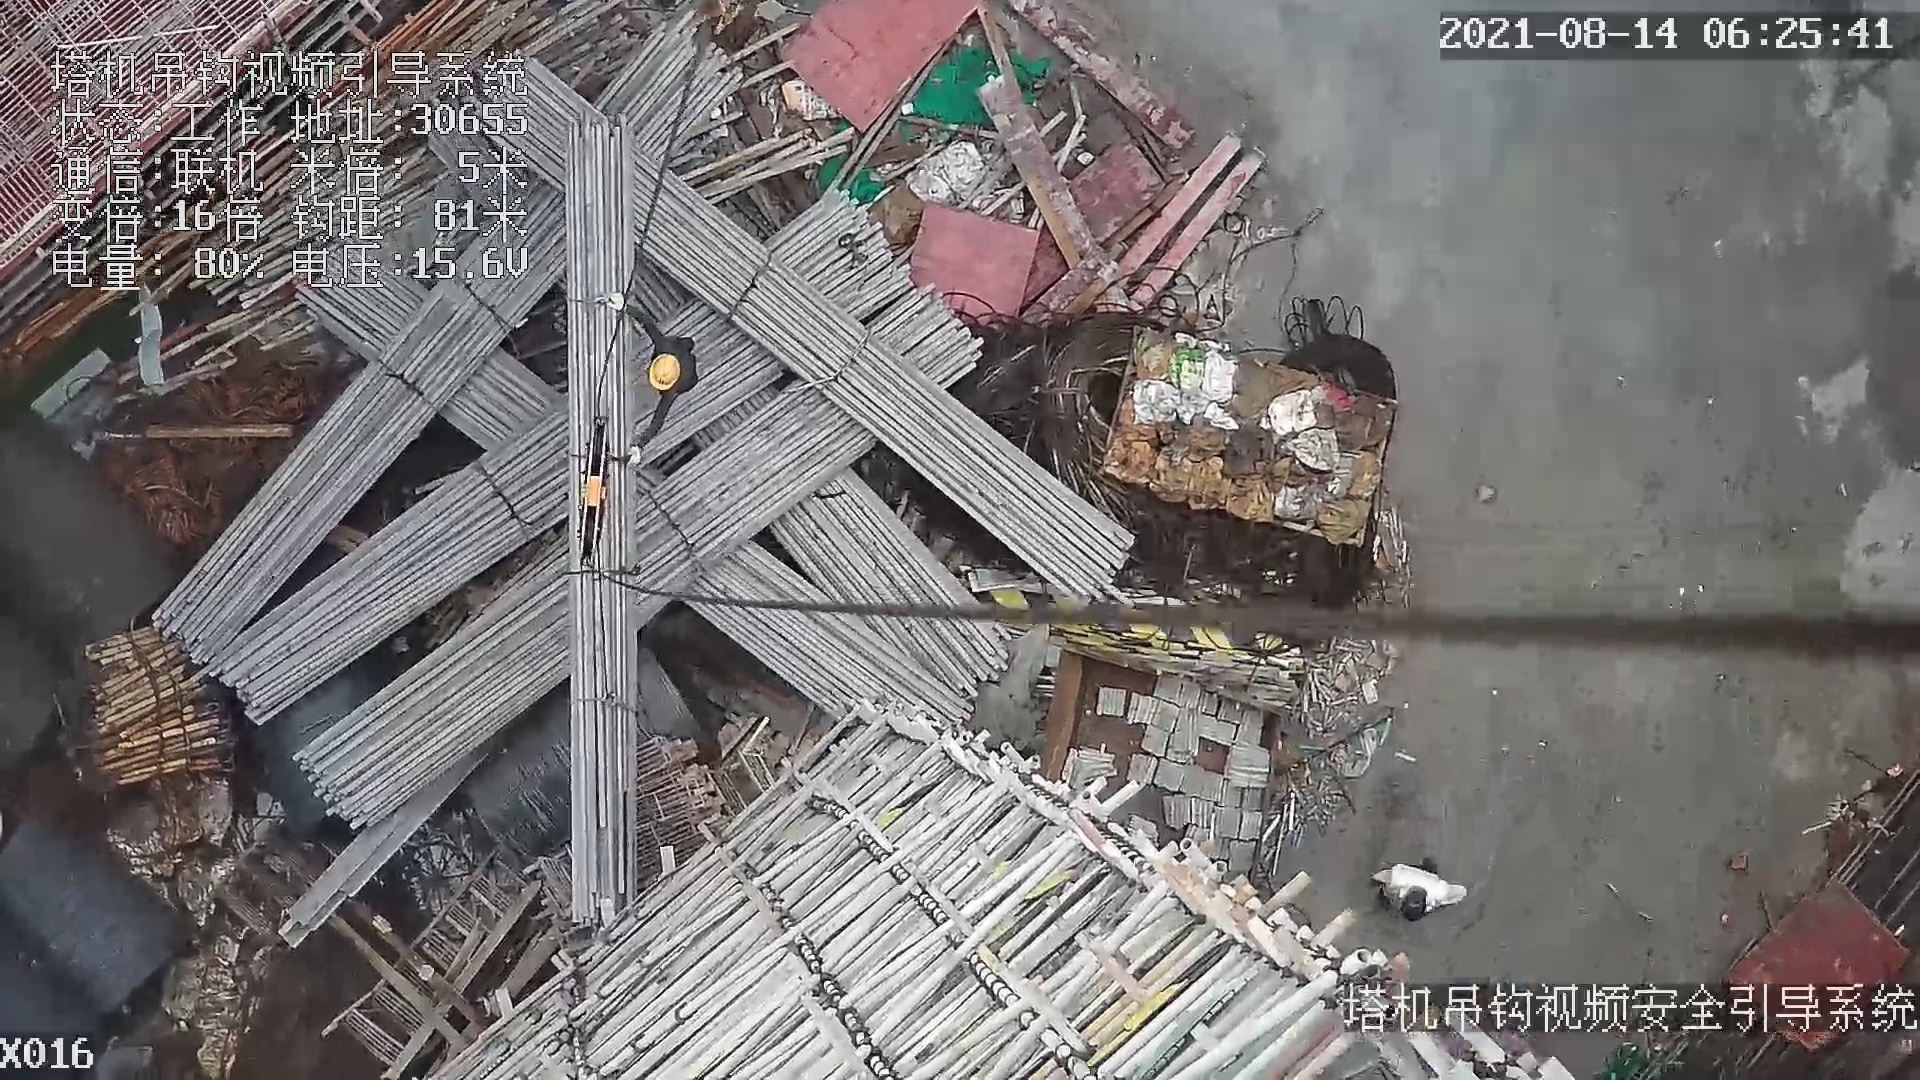helmet: (641, 347, 692, 401)
hook: (565, 406, 620, 574)
person: (606, 291, 690, 458), (1364, 859, 1481, 926)
